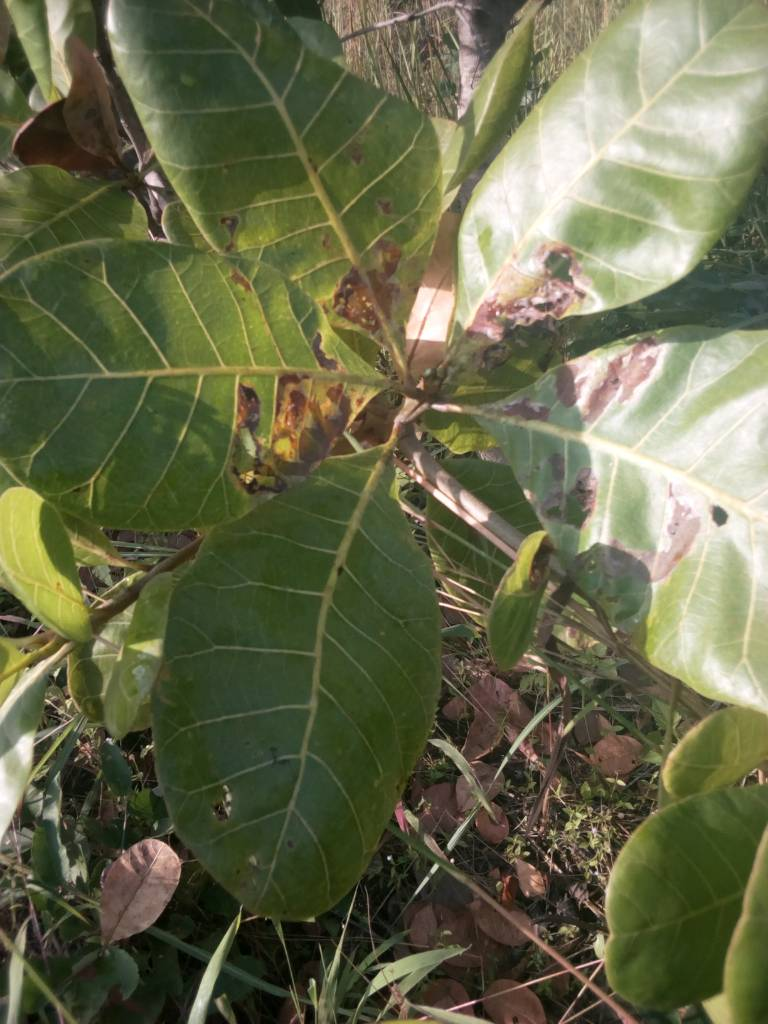Dysdercus wolkerii: (475, 331, 768, 702)
